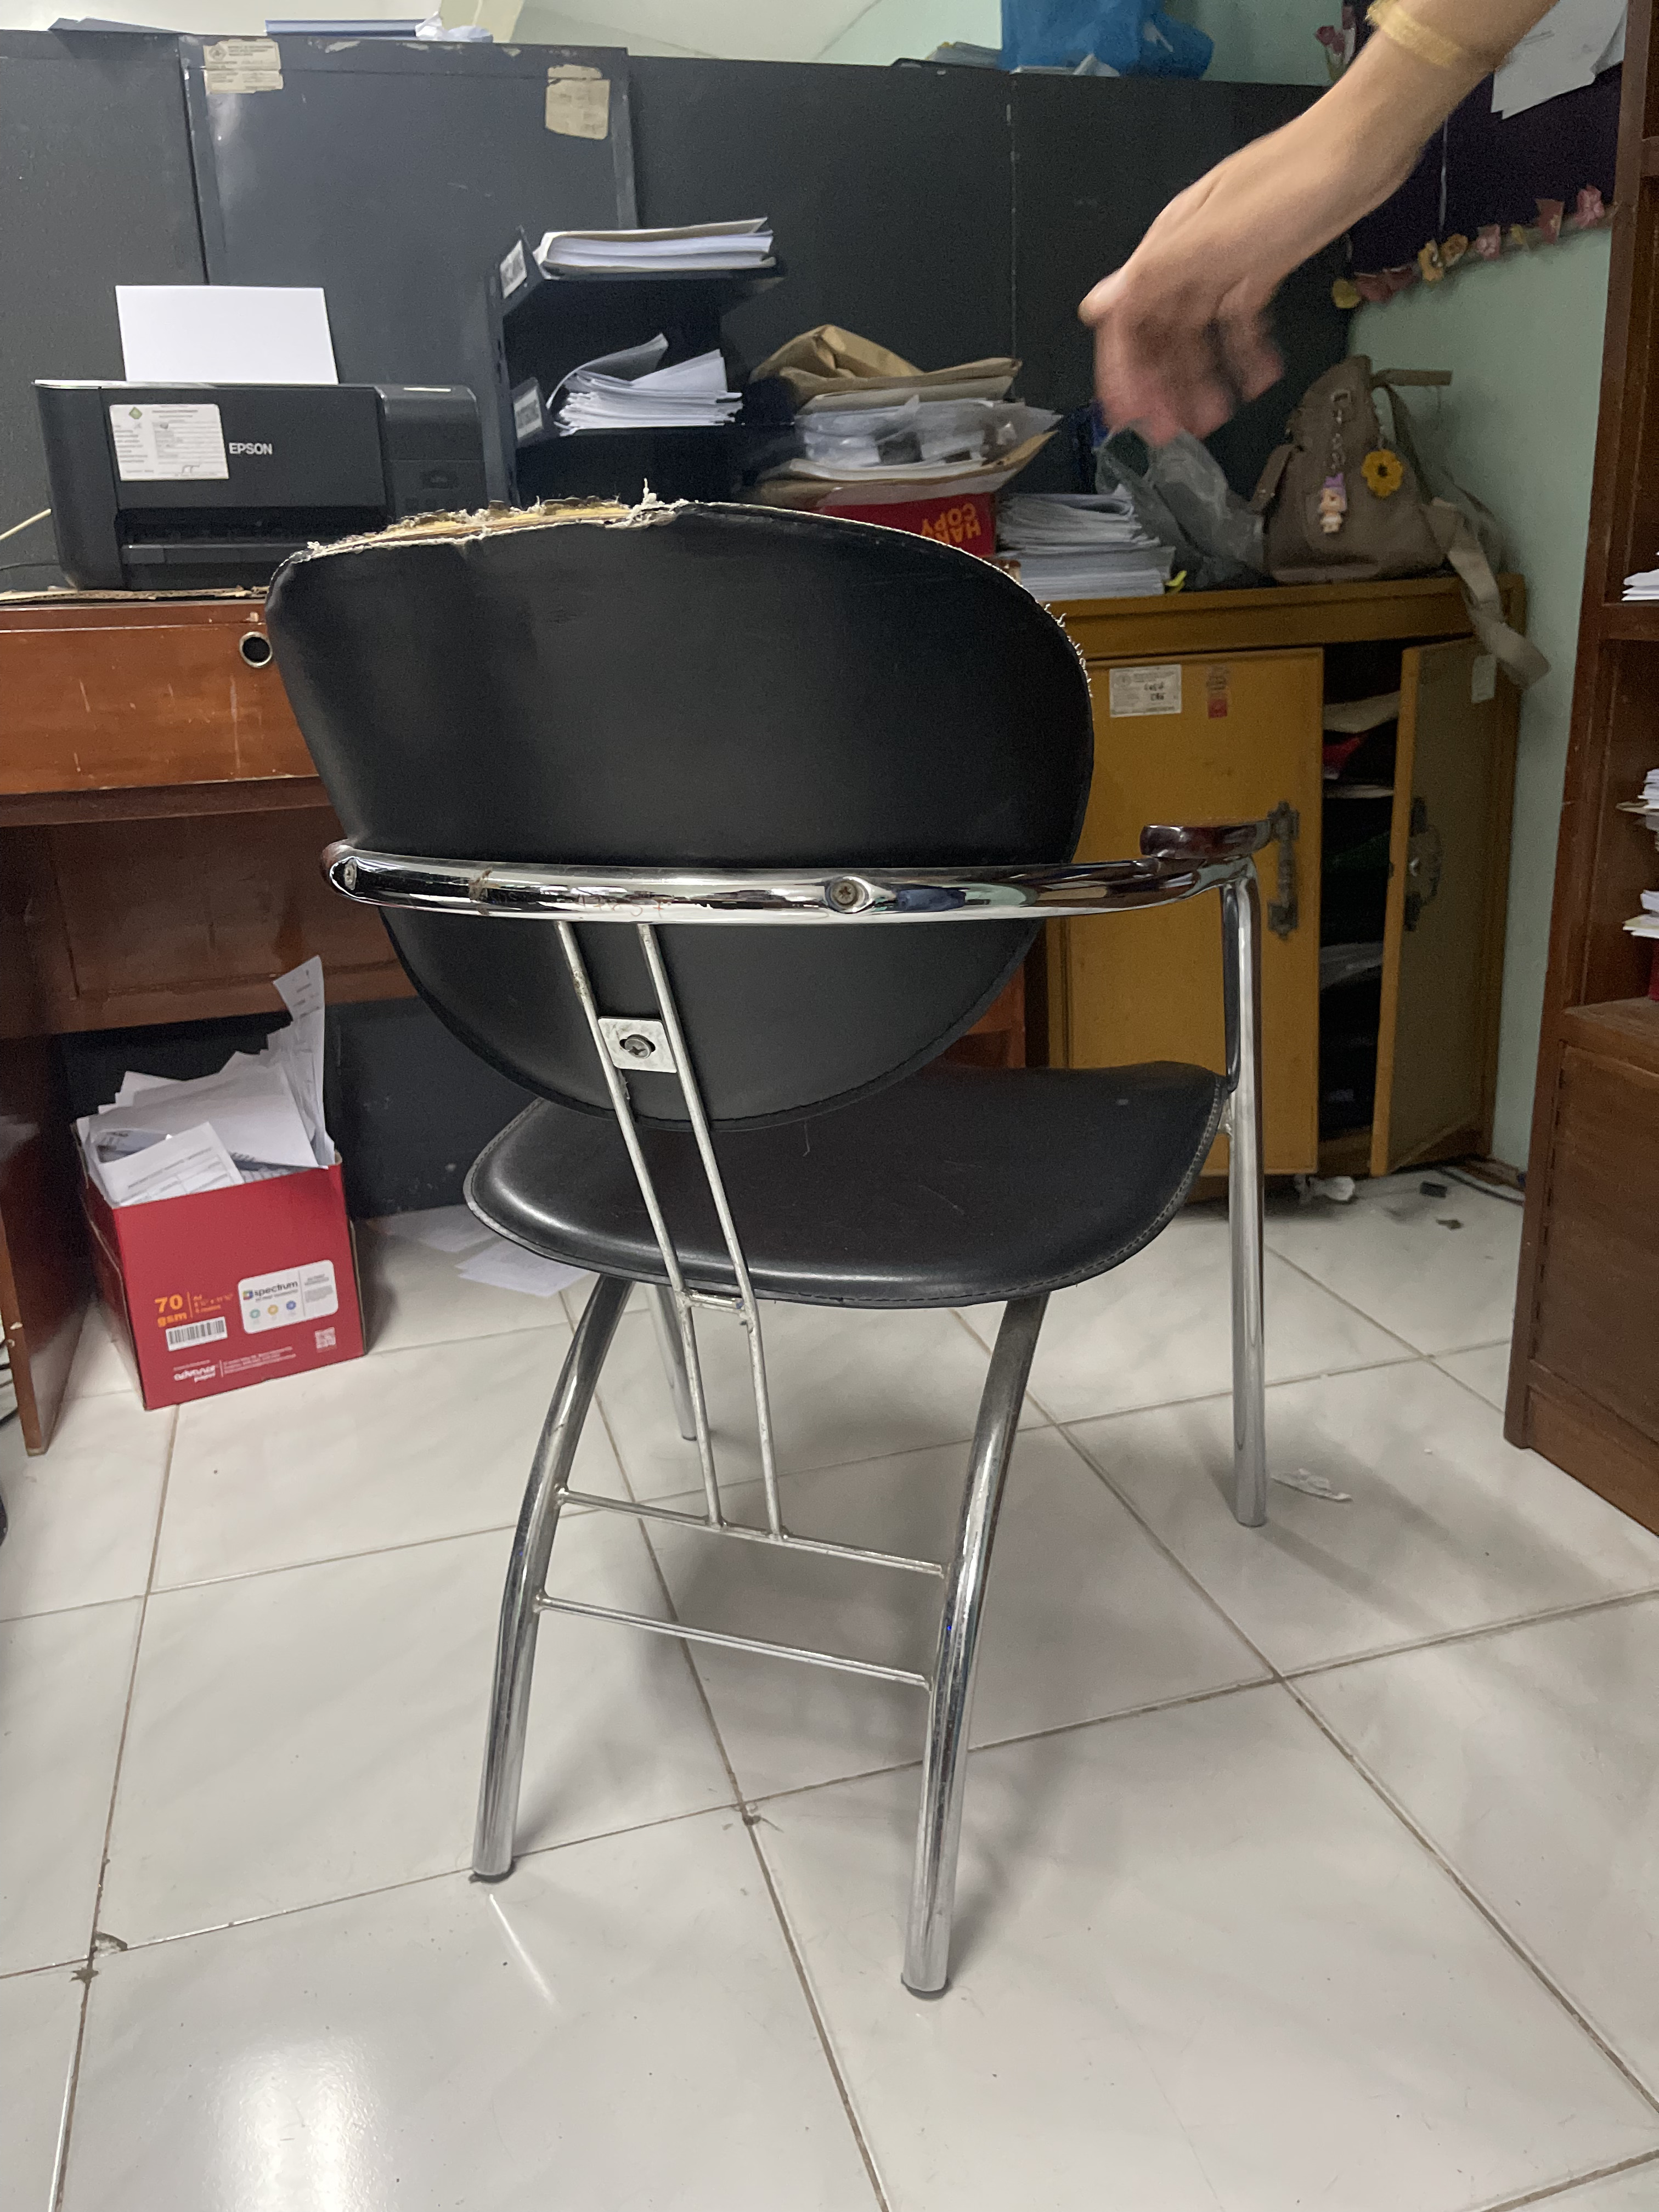chair1: (254, 493, 1298, 1996)
